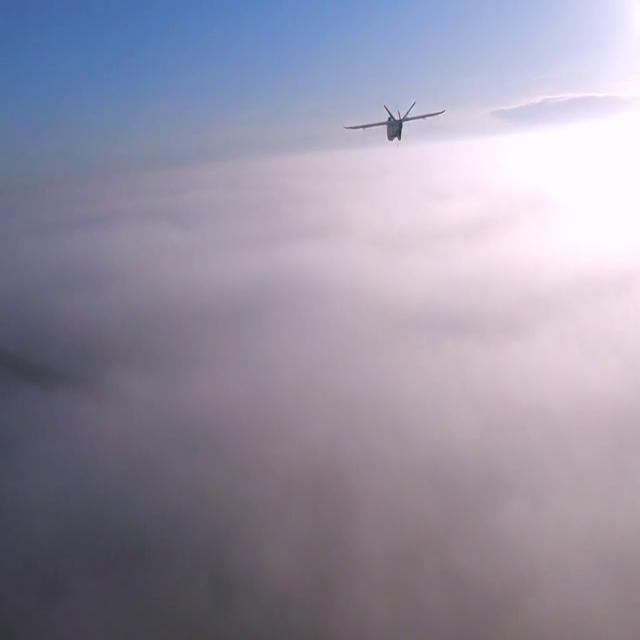iha: (369, 36, 408, 84)
